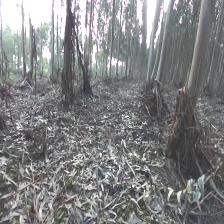trunk: (183, 5, 213, 114), (154, 4, 174, 92), (63, 4, 73, 92)
